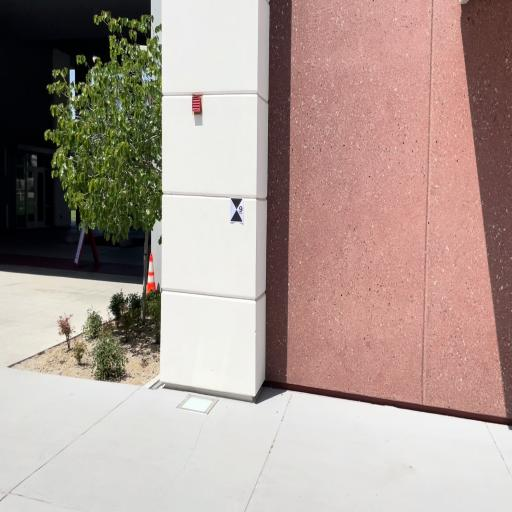target9: (230, 197, 243, 224)
